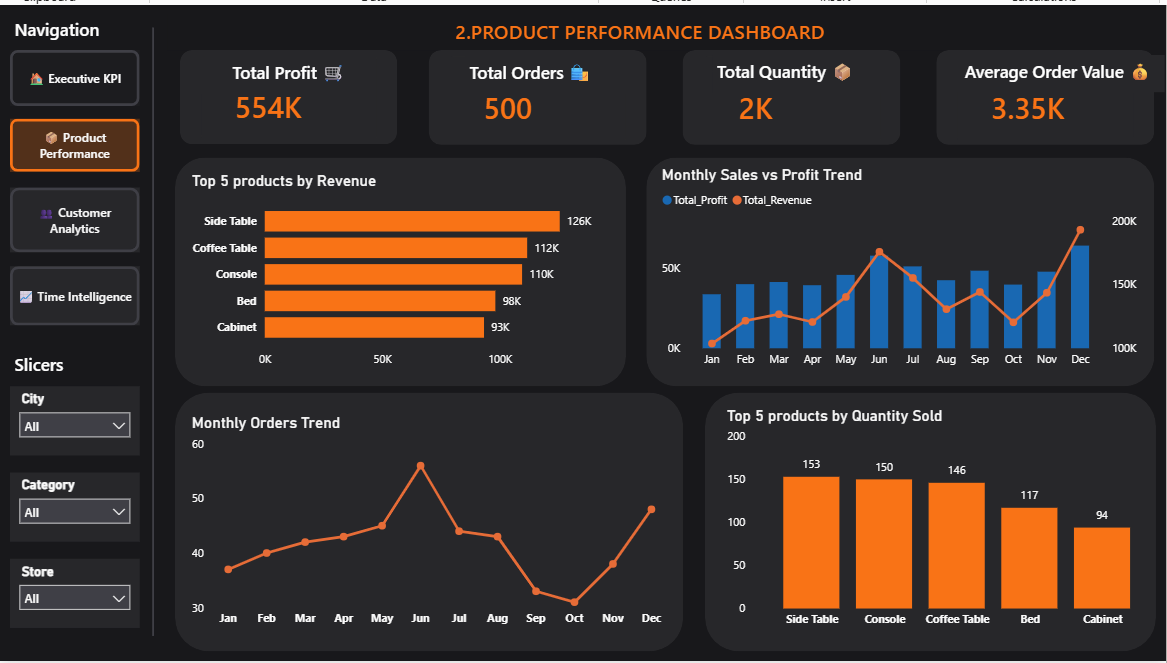

What the dashboard file says about the page in this screenshot:
{"tool":"powerbi","page":{"name":"Product Performance","canvas":[1280,720],"ordinal":2},"visuals":[{"type":"textbox","box":[10.7,9.5,118.4,40.3],"z":0},{"type":"actionButton","box":[10.7,124.4,142.1,58],"z":1000},{"type":"actionButton","box":[10.7,49.7,142.1,61.6],"z":2000},{"type":"actionButton","box":[10.7,200.1,142.1,71.1],"z":3000},{"type":"actionButton","box":[10.7,286.6,142.1,65.1],"z":4000},{"type":"textbox","box":[10.7,377.8,118.4,40.3],"z":5000},{"type":"slicer","fields":{"Values":["Fact_Sales.City"]},"box":[10.7,418.1,142.1,75.8],"z":6000},{"type":"slicer","fields":{"Values":["Fact_Sales.Category"]},"box":[10.7,512.8,142.1,75.8],"z":7000},{"type":"slicer","fields":{"Values":["Fact_Sales.Store"]},"box":[10.7,607.5,142.1,75.8],"z":8000},{"type":"shape","box":[99.5,24.9,138.6,667.9],"z":9000},{"type":"textbox","box":[183.6,9.5,1037.5,40.3],"z":10000},{"type":"shape","box":[197.7,50,238.4,103.5],"z":11000},{"type":"cardVisual","fields":{"Data":["Fact_Sales.Total_Profit"]},"box":[220.9,55.8,193,91.9],"z":12000},{"type":"textbox","box":[220.9,55.8,191.9,41.9],"z":13000},{"type":"shape","box":[470.6,49.7,239.2,104.2],"z":14000},{"type":"cardVisual","fields":{"Data":["Fact_Sales.Total_Trans"]},"box":[493.9,55.7,193,92.4],"z":15000},{"type":"textbox","box":[510.4,55.7,191.9,41.5],"z":16000},{"type":"shape","box":[749.3,49.7,239.2,104.2],"z":17000},{"type":"cardVisual","fields":{"Data":["Fact_Sales.Total_Qty"]},"box":[773.4,55.7,193,92.4],"z":18000},{"type":"textbox","box":[782.8,54.5,193,41.5],"z":19000},{"type":"shape","box":[1028,49.7,239.2,104.2],"z":20000},{"type":"cardVisual","fields":{"Data":["Fact_Sales.AOV"]},"box":[1050.5,55.7,193,92.4],"z":21000},{"type":"textbox","box":[1050,54.7,229.1,40.7],"z":22000},{"type":"shape","box":[191.9,167,495,251.1],"z":23000},{"type":"shape","box":[709.4,167,557.8,251.1],"z":24000},{"type":"shape","box":[191.9,425.2,557.8,284.2],"z":25000},{"type":"shape","box":[773.4,425.2,495,284.2],"z":26000},{"type":"lineChart","title":"Monthly Orders Trend ","fields":{"Category":["Calendar.Month"],"Y":["Fact_Sales.Total_Trans"]},"box":[205.8,448.8,531.4,243],"z":27000},{"type":"lineClusteredColumnComboChart","title":"Monthly Sales vs Profit Trend","fields":{"Category":["Calendar.Month"],"Y":["Fact_Sales.Total_Profit"],"Y2":["Fact_Sales.Total_Revenue"]},"box":[722.1,175.6,531.4,231.4],"z":28000},{"type":"columnChart","title":"Top 5 products by Quantity Sold","fields":{"Category":["Fact_Sales.Product"],"Y":["Fact_Sales.Total_Qty"]},"box":[793.2,440.6,486.8,252.3],"z":29000},{"type":"clusteredBarChart","title":"Top 5 products by Revenue","fields":{"Category":["Fact_Sales.Product"],"Y":["Fact_Sales.Total_Revenue"]},"box":[205.8,182.6,465.1,224.4],"z":30000}]}

Visuals, with their boxes on the page's 1280x720 design canvas (x1, y1, x2, y2). These are canvas units, not pixel positions in the 1167x663 screenshot, which may show the page scaled, cropped or inside an application window:
textbox: pyautogui.locateOnScreen(11, 10, 129, 50)
actionButton: pyautogui.locateOnScreen(11, 124, 153, 182)
actionButton: pyautogui.locateOnScreen(11, 50, 153, 111)
actionButton: pyautogui.locateOnScreen(11, 200, 153, 271)
actionButton: pyautogui.locateOnScreen(11, 287, 153, 352)
textbox: pyautogui.locateOnScreen(11, 378, 129, 418)
slicer - Fact_Sales.City: pyautogui.locateOnScreen(11, 418, 153, 494)
slicer - Fact_Sales.Category: pyautogui.locateOnScreen(11, 513, 153, 589)
slicer - Fact_Sales.Store: pyautogui.locateOnScreen(11, 608, 153, 683)
shape: pyautogui.locateOnScreen(100, 25, 238, 693)
textbox: pyautogui.locateOnScreen(184, 10, 1221, 50)
shape: pyautogui.locateOnScreen(198, 50, 436, 154)
cardVisual - Fact_Sales.Total_Profit: pyautogui.locateOnScreen(221, 56, 414, 148)
textbox: pyautogui.locateOnScreen(221, 56, 413, 98)
shape: pyautogui.locateOnScreen(471, 50, 710, 154)
cardVisual - Fact_Sales.Total_Trans: pyautogui.locateOnScreen(494, 56, 687, 148)
textbox: pyautogui.locateOnScreen(510, 56, 702, 97)
shape: pyautogui.locateOnScreen(749, 50, 988, 154)
cardVisual - Fact_Sales.Total_Qty: pyautogui.locateOnScreen(773, 56, 966, 148)
textbox: pyautogui.locateOnScreen(783, 54, 976, 96)
shape: pyautogui.locateOnScreen(1028, 50, 1267, 154)
cardVisual - Fact_Sales.AOV: pyautogui.locateOnScreen(1050, 56, 1244, 148)
textbox: pyautogui.locateOnScreen(1050, 55, 1279, 95)
shape: pyautogui.locateOnScreen(192, 167, 687, 418)
shape: pyautogui.locateOnScreen(709, 167, 1267, 418)
shape: pyautogui.locateOnScreen(192, 425, 750, 709)
shape: pyautogui.locateOnScreen(773, 425, 1268, 709)
"Monthly Orders Trend " lineChart: pyautogui.locateOnScreen(206, 449, 737, 692)
"Monthly Sales vs Profit Trend" lineClusteredColumnComboChart: pyautogui.locateOnScreen(722, 176, 1254, 407)
"Top 5 products by Quantity Sold" columnChart: pyautogui.locateOnScreen(793, 441, 1280, 693)
"Top 5 products by Revenue" clusteredBarChart: pyautogui.locateOnScreen(206, 183, 671, 407)
